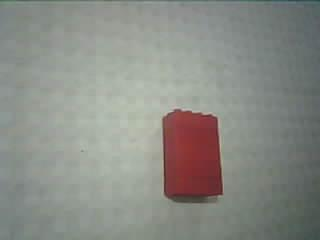lego: (161, 107, 223, 199)
